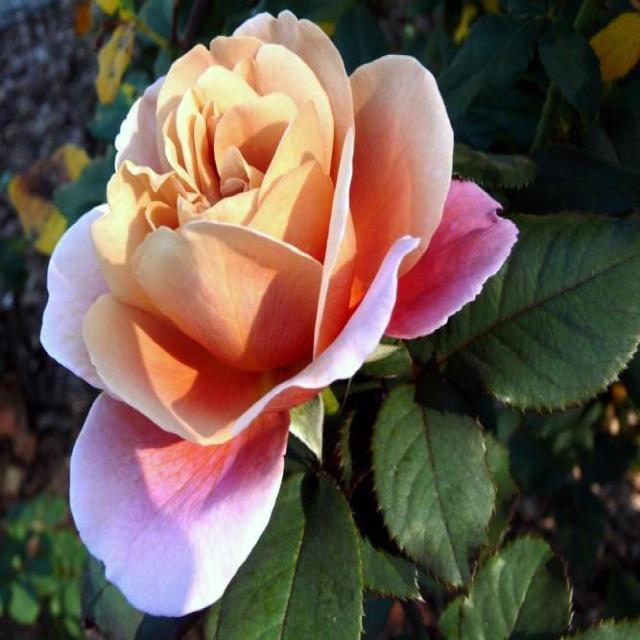rose: (42, 9, 524, 636)
